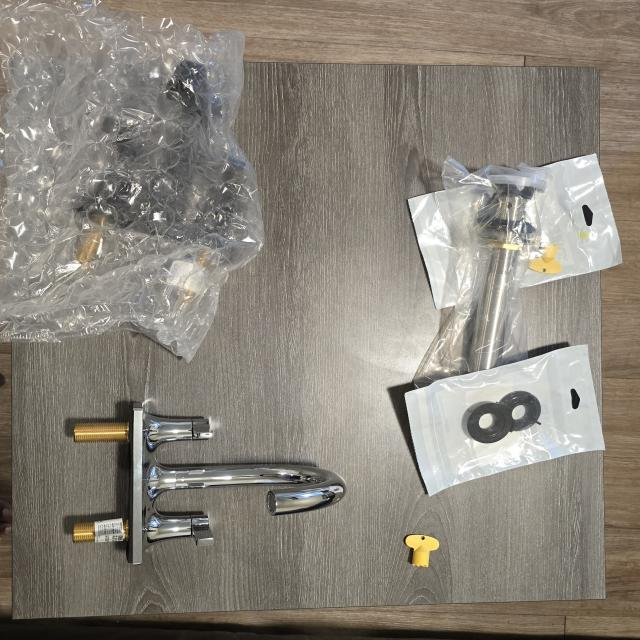10: (73, 407, 345, 564)
11o: (414, 158, 546, 387)
12o: (521, 154, 622, 287), (408, 190, 460, 309)
13: (405, 345, 604, 496)
14: (405, 535, 439, 567)
9c: (0, 0, 263, 361)
